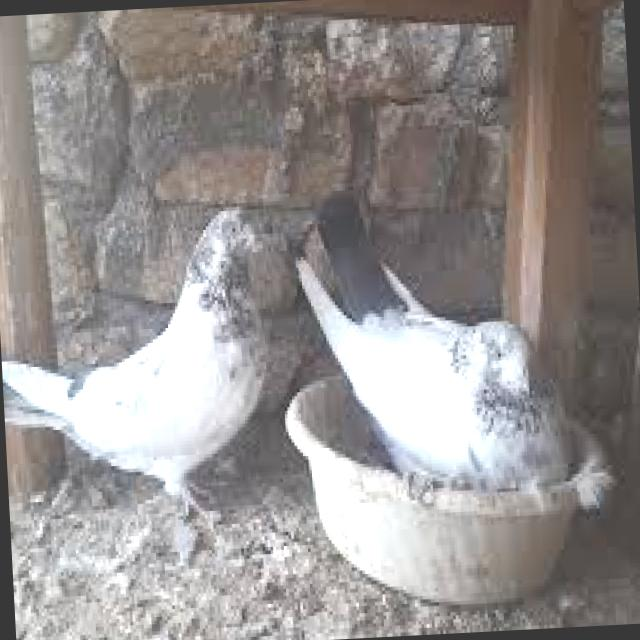bird: (280, 178, 582, 516), (0, 194, 287, 538)
